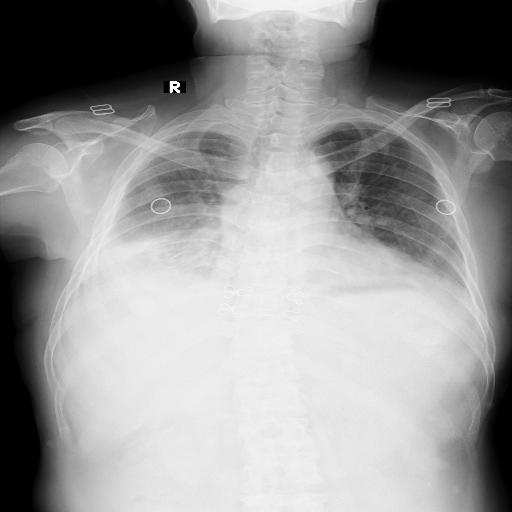Aortic enlargement: (249, 128, 307, 180)
Cardiomegaly: (100, 208, 322, 267)
Lung Opacity: (24, 184, 156, 248)
Other lesion: (134, 178, 154, 196)
Pleural effusion: (5, 210, 147, 258)
